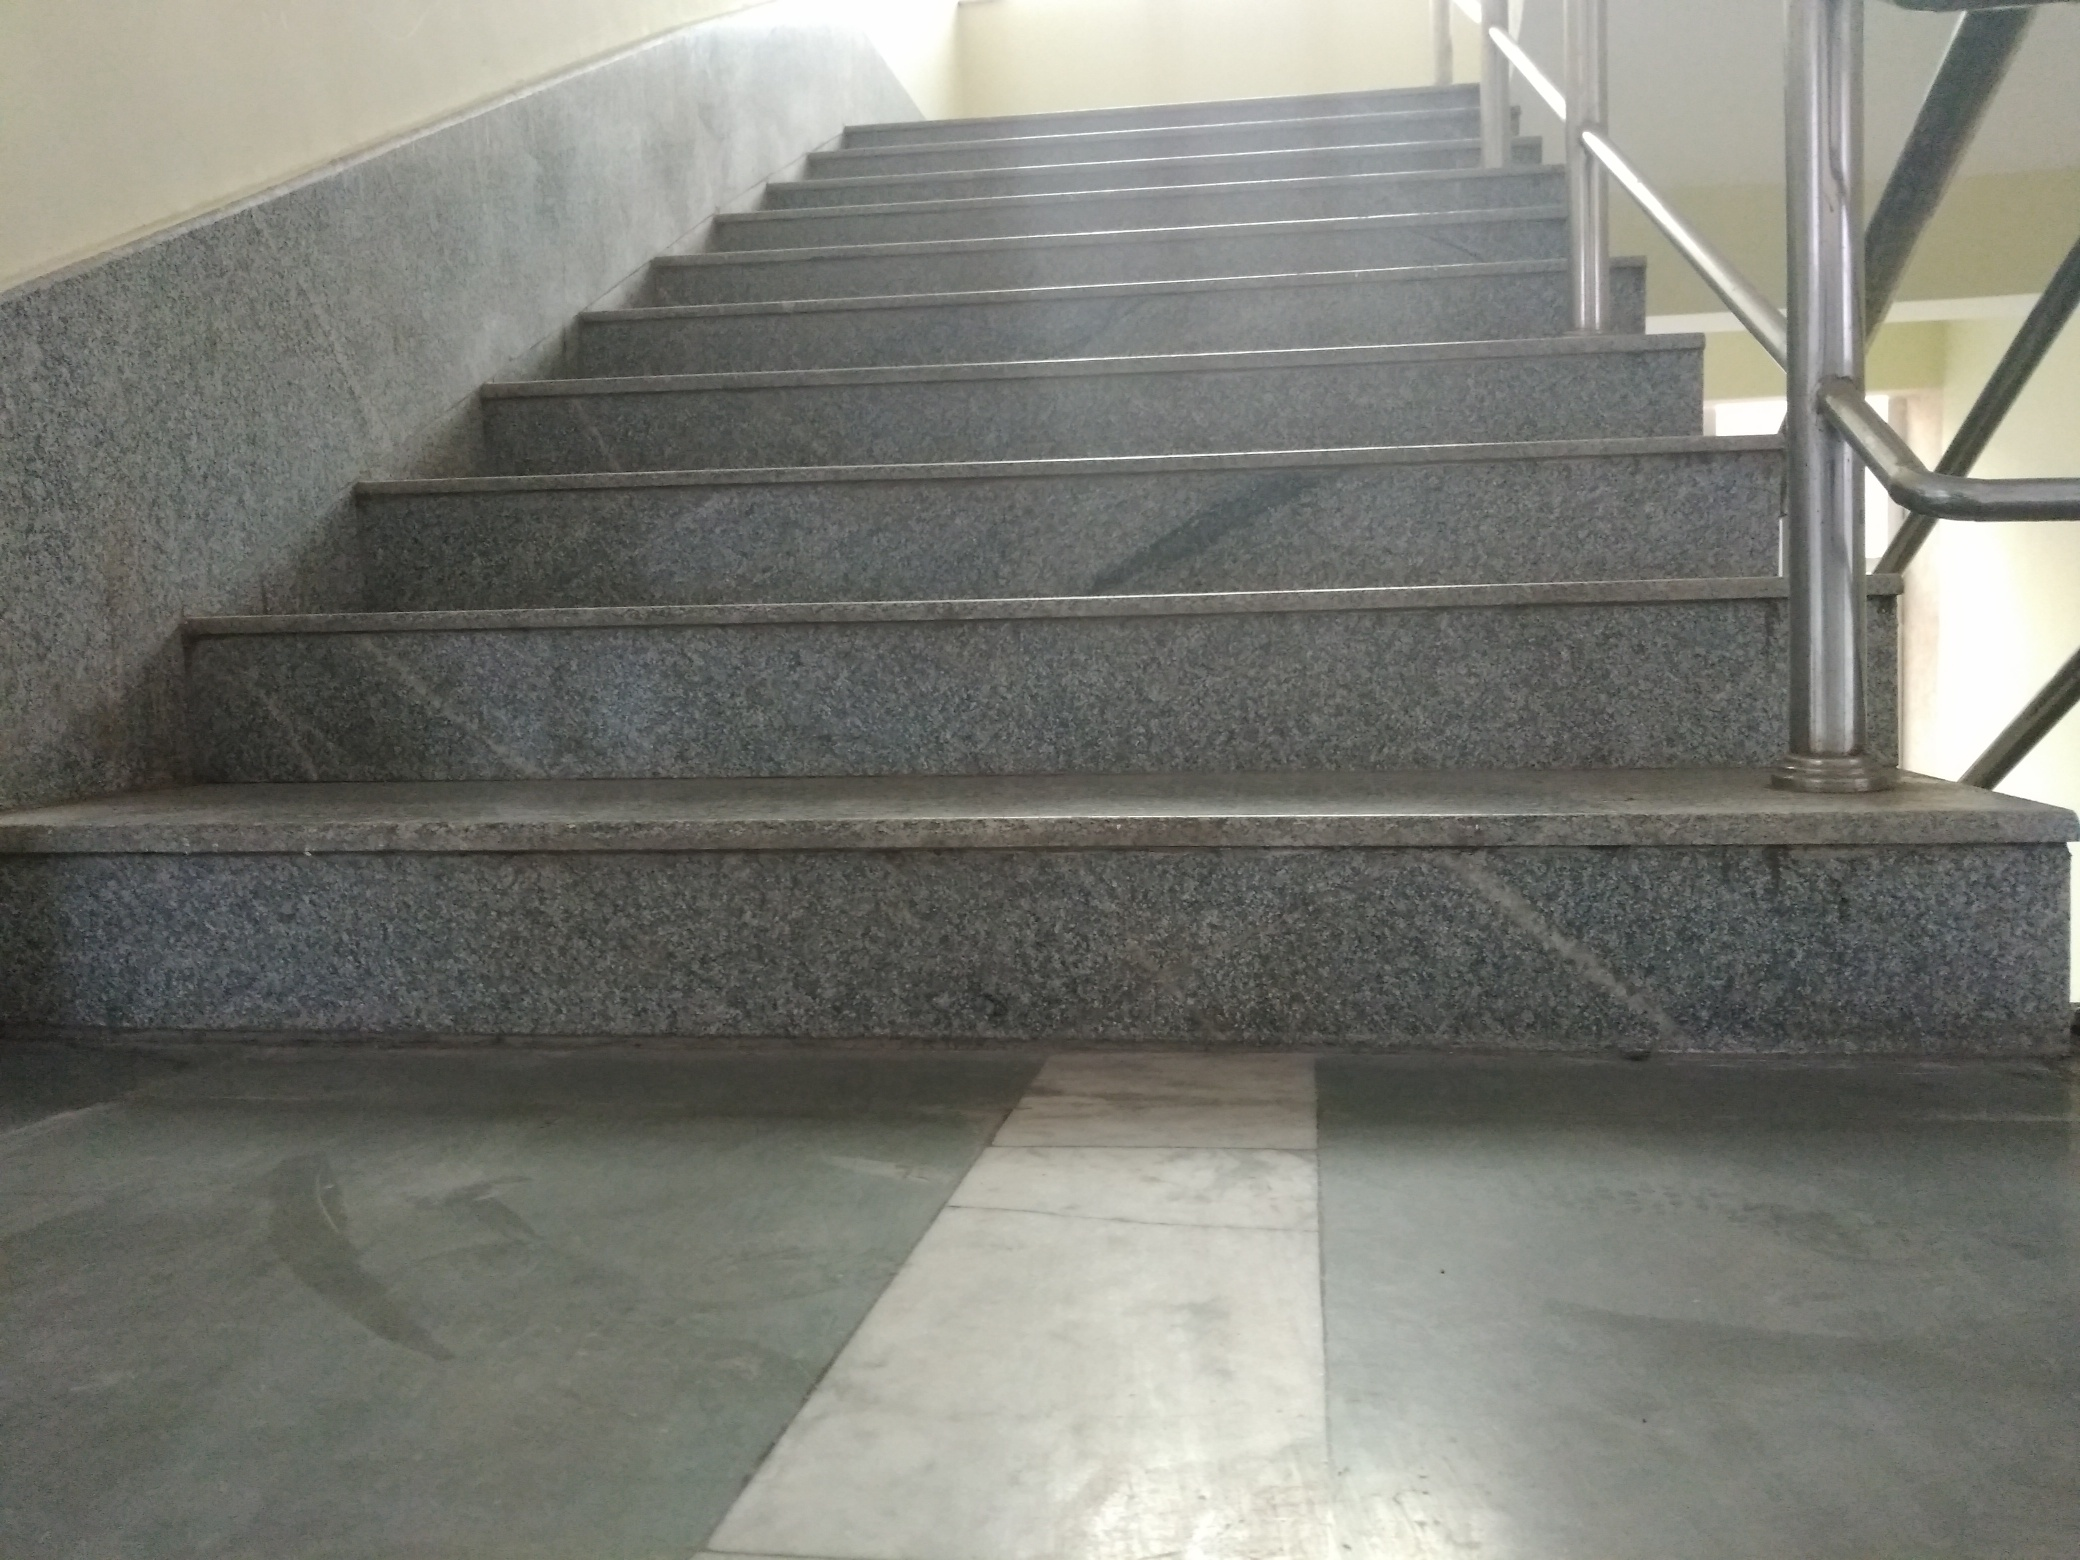stairs_up: (54, 93, 2054, 1049)
